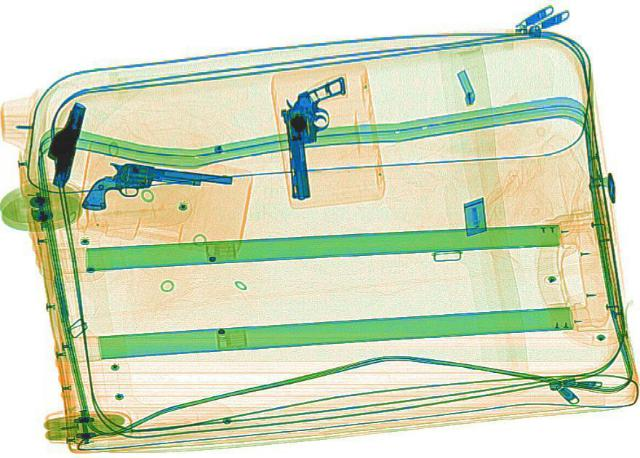Gun: (268, 76, 362, 199), (75, 160, 232, 219), (38, 100, 86, 187)
